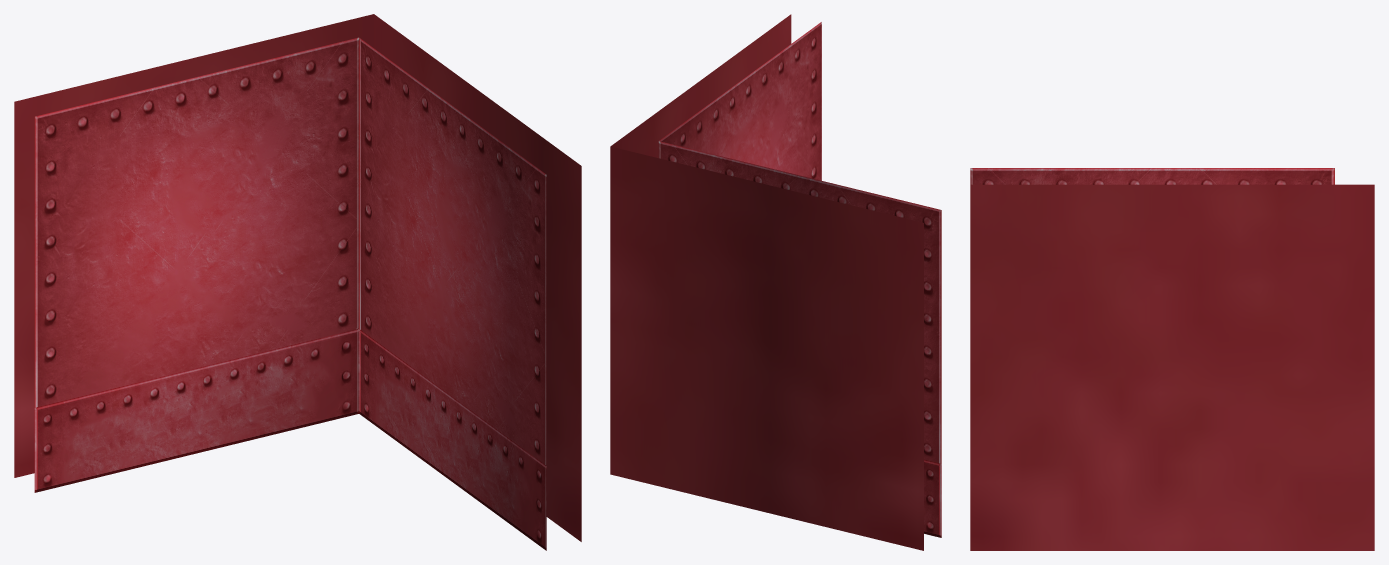
The model's file is Corner1.fbx.
3 views of the same model, side by side, from view 1: azimuth 30°, elevation 25°; view 2: azimuth 150°, elevation 25°; view 3: azimuth 270°, elevation 25° (orthographic). The views are drawn at different scales.
Parts seen in each view (by area): view 1: Corner001; view 2: Corner001; view 3: Corner001.
Boxes of the visible parts, box(x1,y1,x2,y2) form: Corner001: box(14, 14, 581, 550); Corner001: box(610, 14, 941, 550); Corner001: box(970, 168, 1374, 550).
Bounding box in the file's own units: 1024 × 1024 × 1024.
